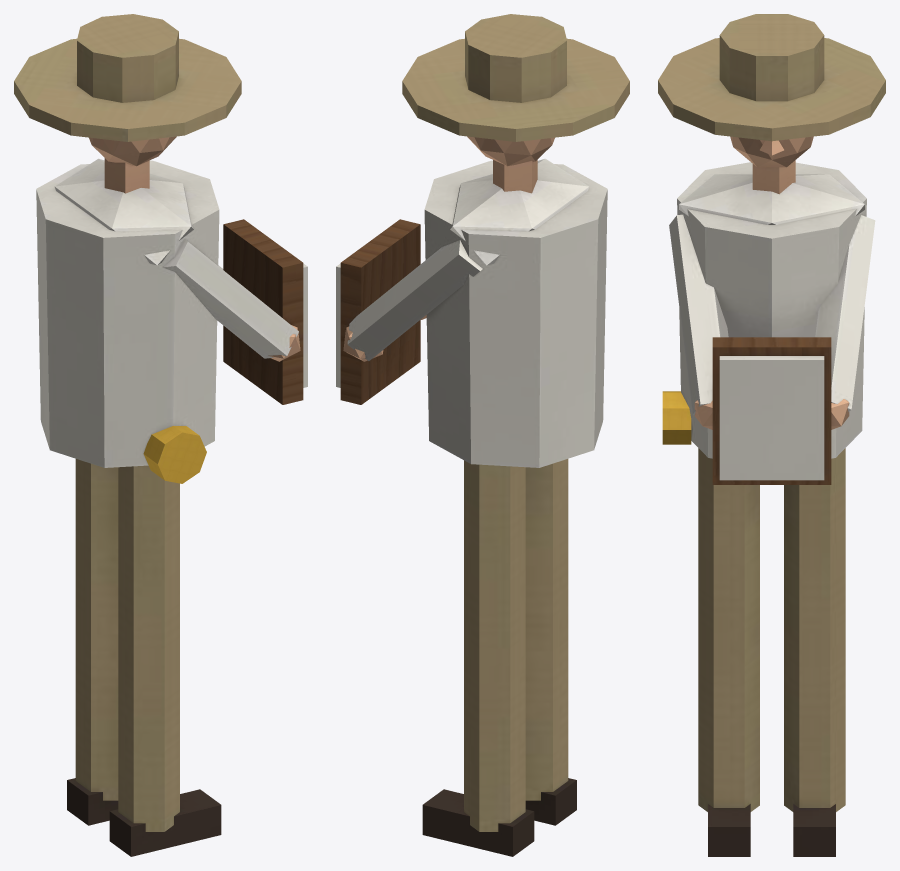
Rendered from arkeolog_2_tex.glb.
The picture shows the model from 3 angles, left to right: view 1: azimuth 30°, elevation 25°; view 2: azimuth 150°, elevation 25°; view 3: azimuth 270°, elevation 25°; orthographic projection.
Visible parts, largest first — view 1: arkeolog_2; view 2: arkeolog_2; view 3: arkeolog_2.
Boxes of the visible parts, bbox=[...] form: arkeolog_2: bbox=[14, 14, 307, 856]; arkeolog_2: bbox=[336, 14, 629, 856]; arkeolog_2: bbox=[658, 14, 885, 856].
Size of the model in its own units: 0.615 by 1.84 by 0.48.
Materials: 7 (6 with a texture image).
